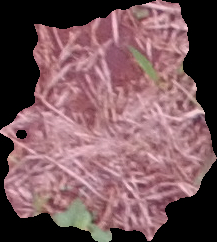soil: (1, 1, 217, 241)
